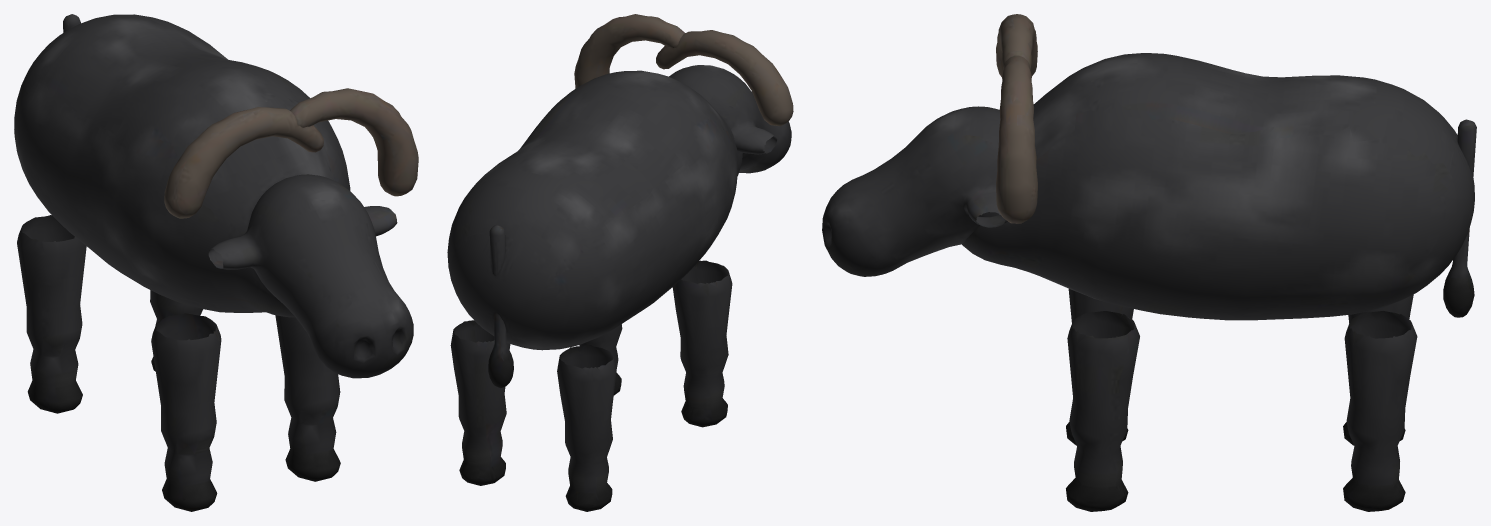
File: animal_buffalo.glb
3 renders of one model, left to right at view 1: azimuth 30°, elevation 25°; view 2: azimuth 150°, elevation 25°; view 3: azimuth 270°, elevation 25°, orthographic. The views are drawn at different scales.
Visible parts, largest first — view 1: animal_buffalo, head, leg0, leg2, leg1, leg3; view 2: animal_buffalo, head, leg2, leg0, leg3, tail, leg1; view 3: animal_buffalo, head, leg3, leg1, tail, leg0.
Part boxes in pixels (left/top/right/bottom): animal_buffalo: left=14, top=14, right=350, bottom=317; head: left=164, top=88, right=418, bottom=378; leg0: left=151, top=313, right=221, bottom=511; leg2: left=17, top=215, right=86, bottom=413; leg1: left=275, top=315, right=340, bottom=481; leg3: left=150, top=290, right=202, bottom=371; animal_buffalo: left=447, top=70, right=742, bottom=350; head: left=574, top=14, right=793, bottom=173; leg2: left=557, top=345, right=616, bottom=511; leg0: left=672, top=260, right=732, bottom=427; leg3: left=450, top=320, right=510, bottom=485; tail: left=488, top=225, right=513, bottom=387; leg1: left=579, top=324, right=622, bottom=395; animal_buffalo: left=962, top=53, right=1474, bottom=320; head: left=822, top=14, right=1037, bottom=276; leg3: left=1343, top=311, right=1417, bottom=511; leg1: left=1066, top=311, right=1139, bottom=511; tail: left=1443, top=119, right=1476, bottom=317; leg0: left=1066, top=289, right=1133, bottom=445.
Bounding box in the file's own units: 0.3433 × 0.5519 × 0.756.
1 material, 1 textured.
